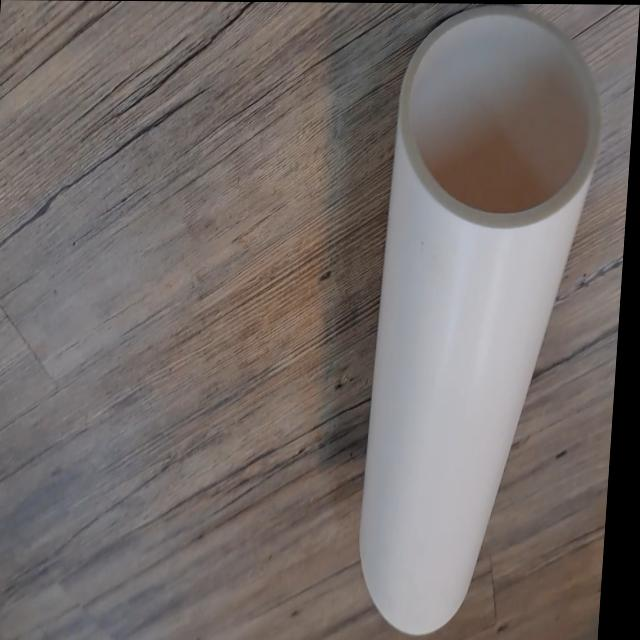CORAL: (327, 6, 613, 639)
